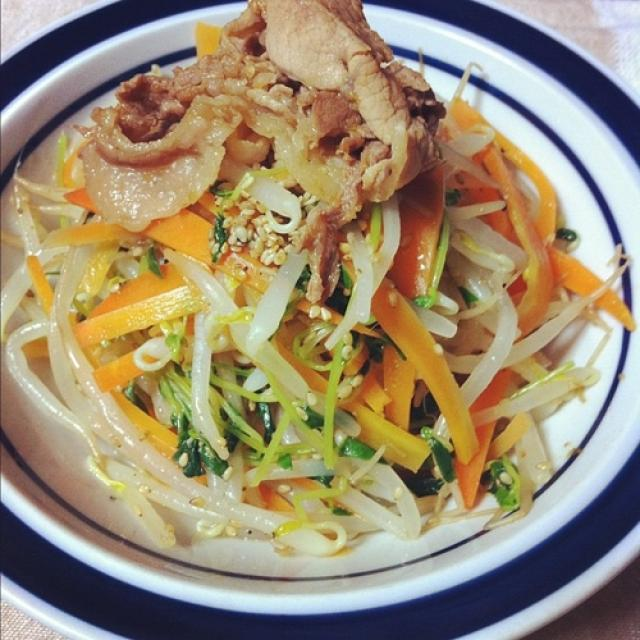面条主食: (124, 21, 557, 640)
